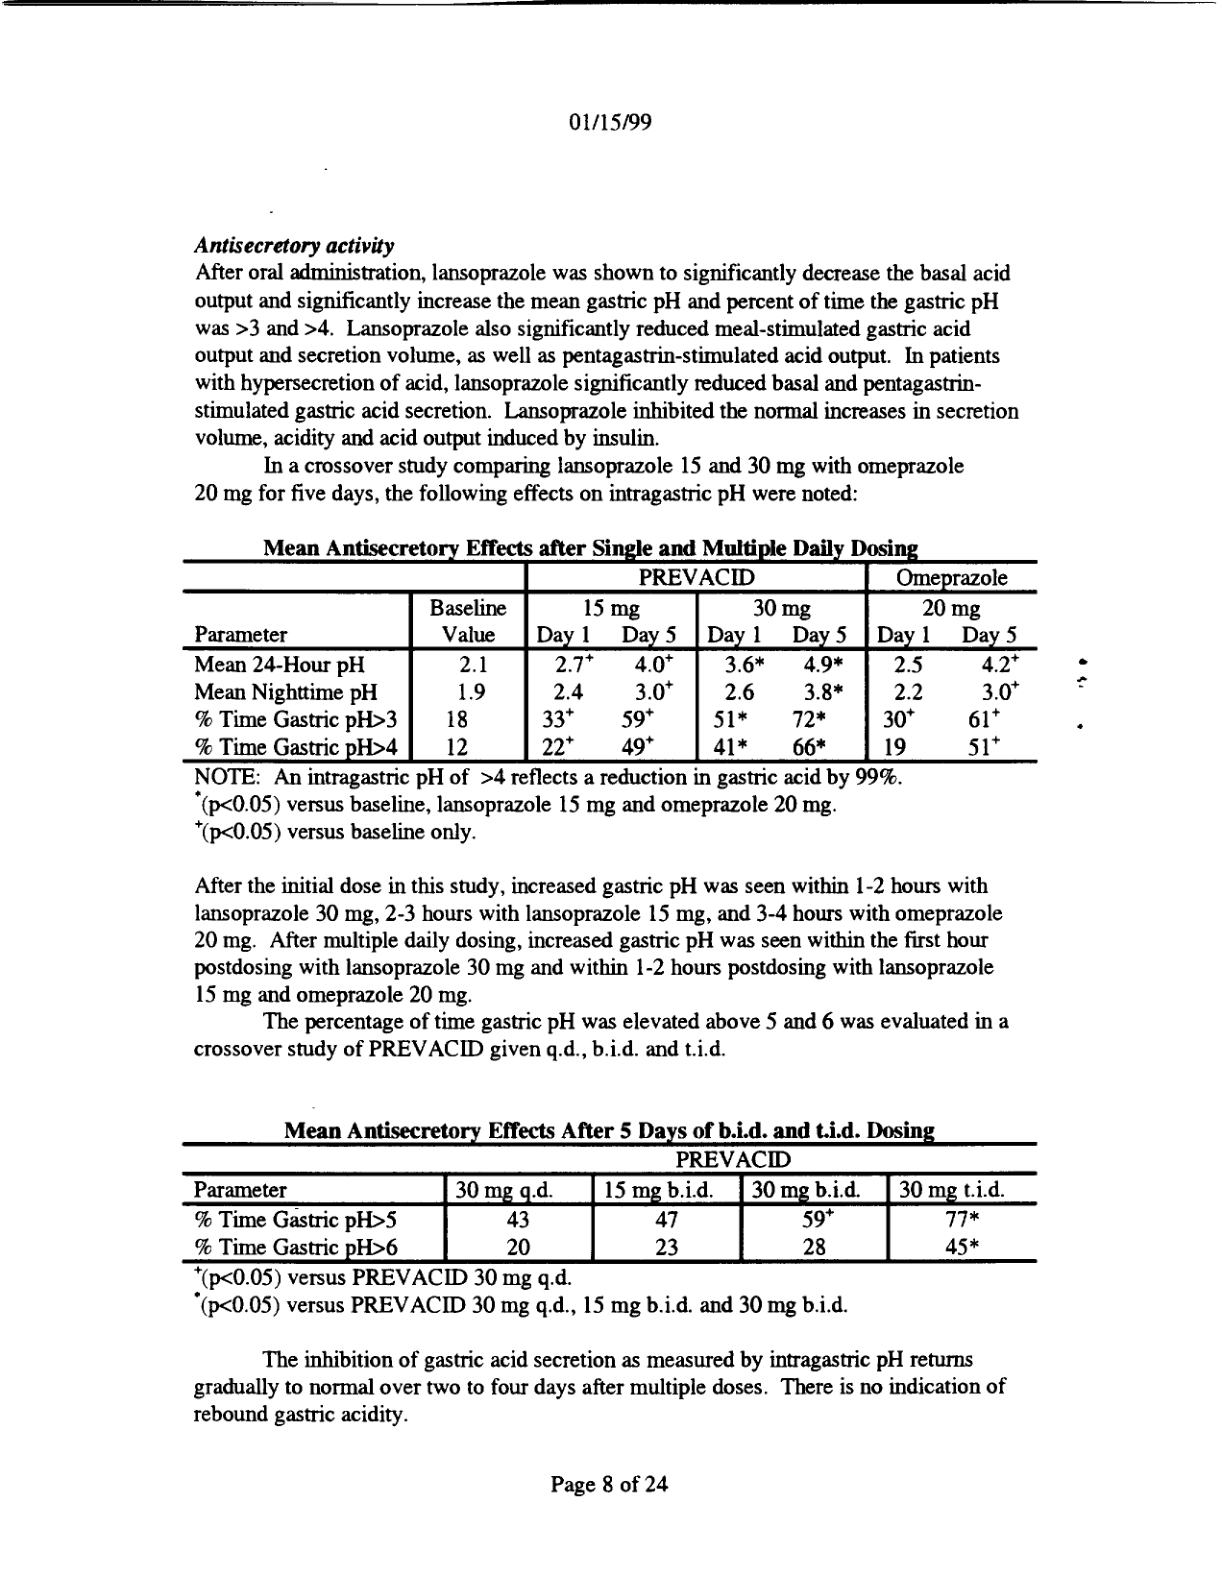partial_lined_merged_cells: (180, 559, 1039, 765), (179, 1140, 1042, 1265)
